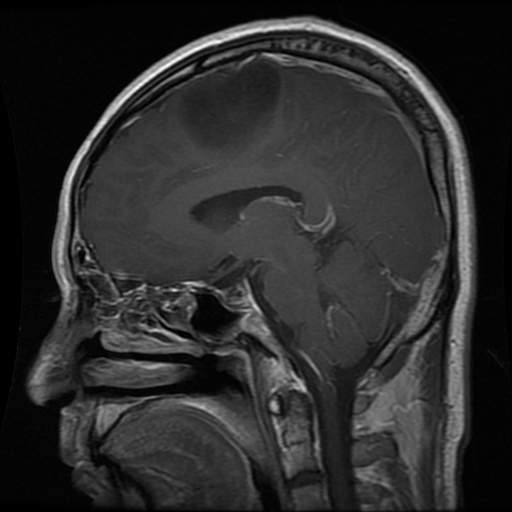glioma: (176, 61, 279, 153)
